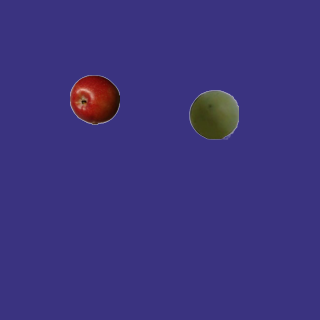Apple Braeburn: (69, 74, 119, 124)
Grape White 4: (188, 89, 238, 139)
